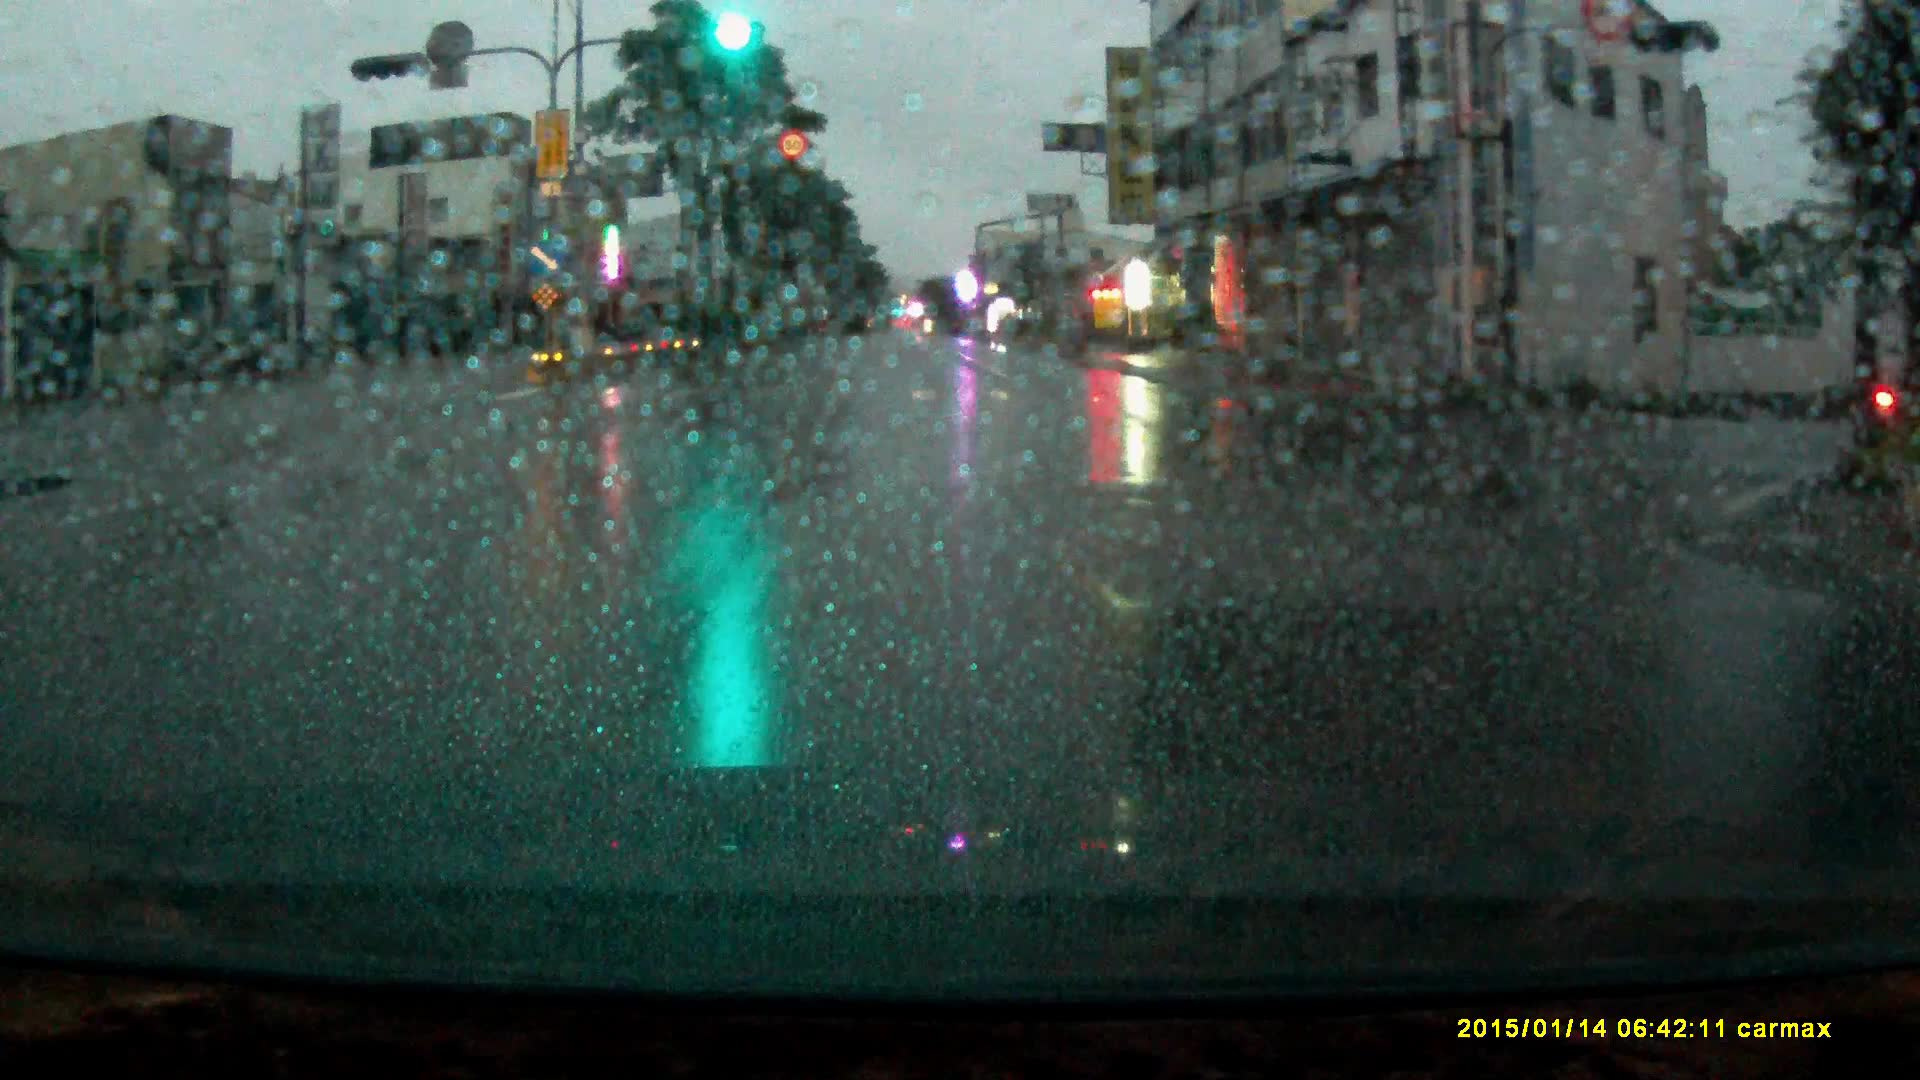rider: (1855, 334, 1920, 441)
